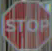Stop: (0, 0, 51, 47)
